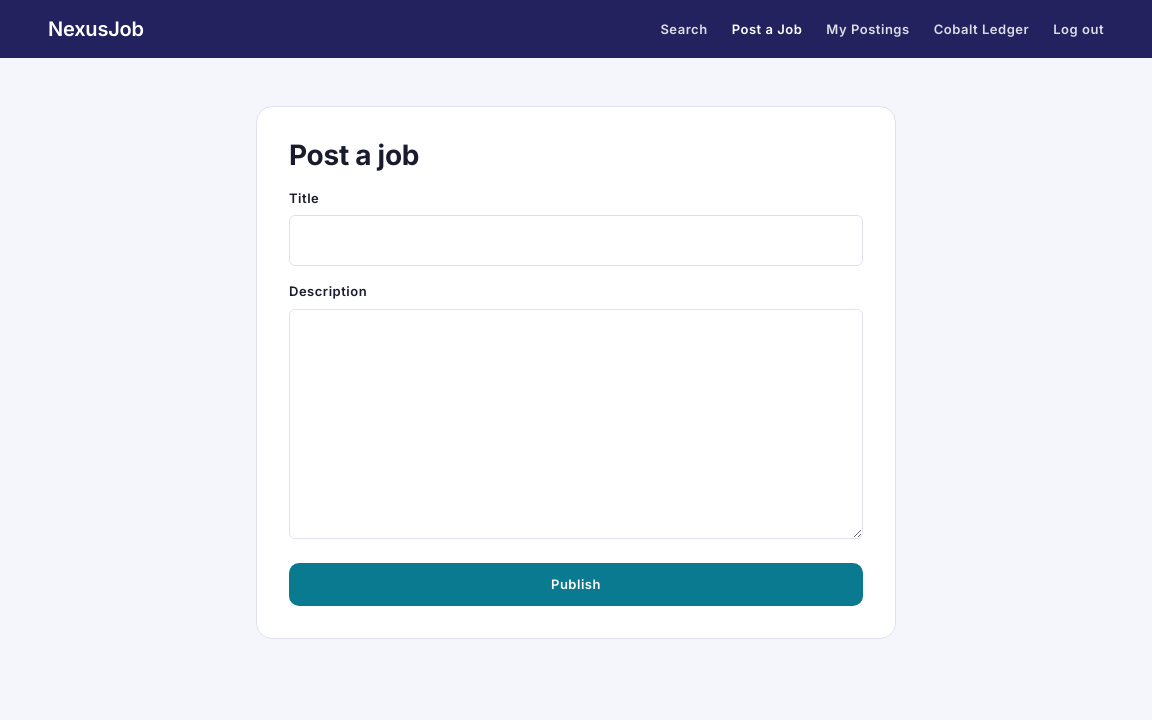
Test: App routing — /post-a-job guard › navigates a Company to the new posting detail after a successful publish
In the field labelled "Title": [576, 241] box [289, 215, 863, 266], type "Staff Engineer"
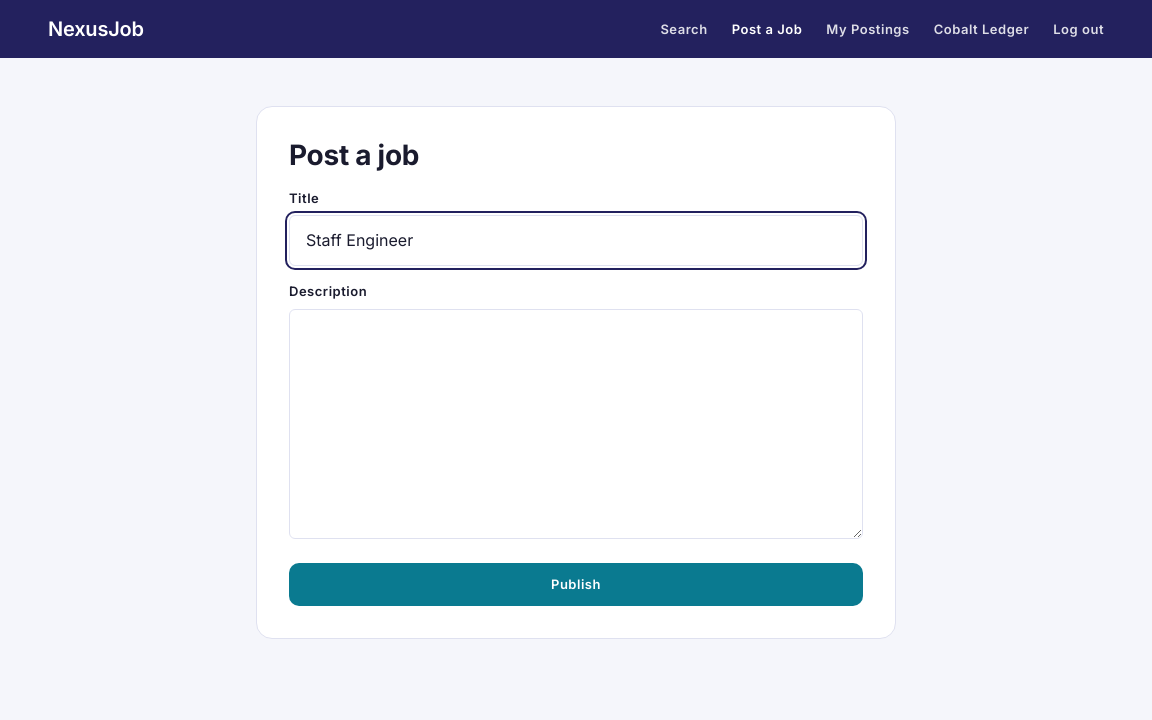
In the text box labelled "Description": [576, 424] box [289, 309, 863, 539], type "Build the platform."
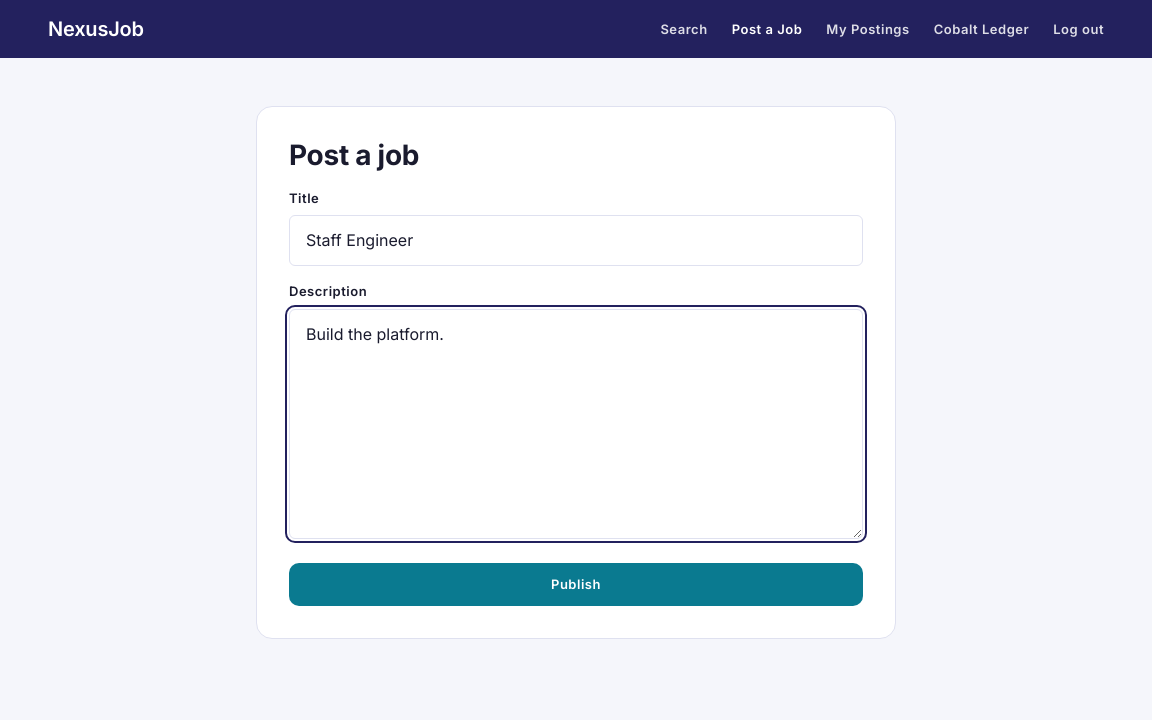
Click the button "Publish": [576, 584] box [289, 563, 863, 606]
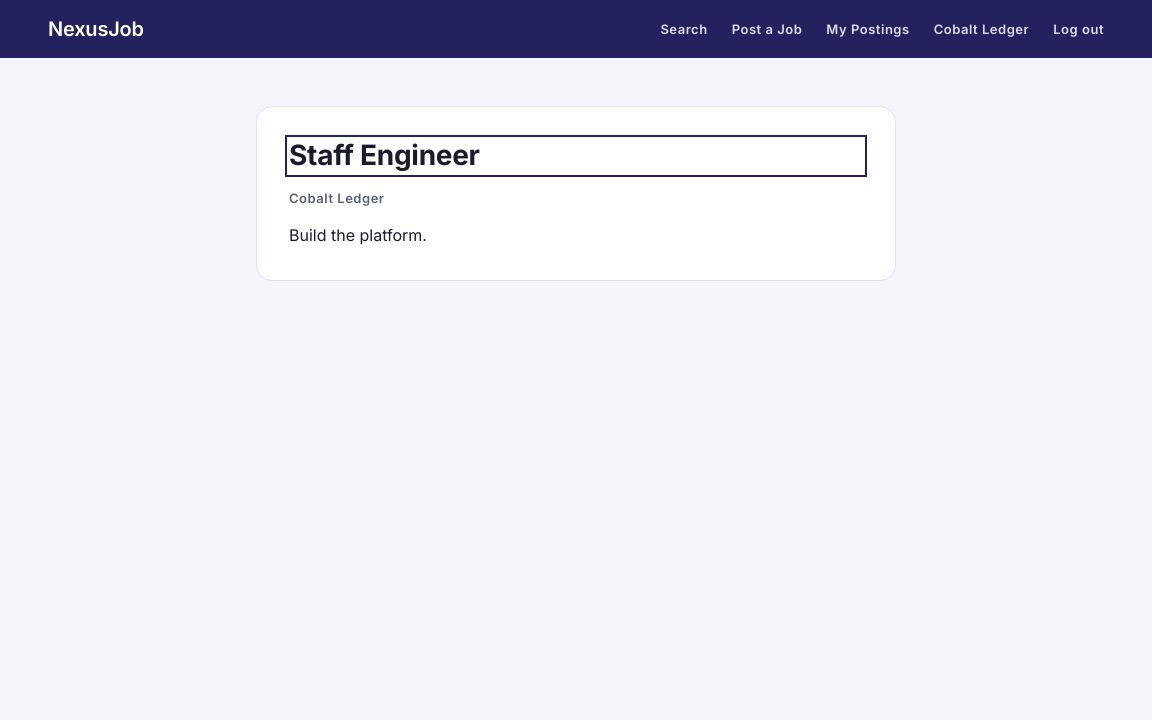
Expected: the heading "Staff Engineer" is shown, [289, 138, 480, 172]
